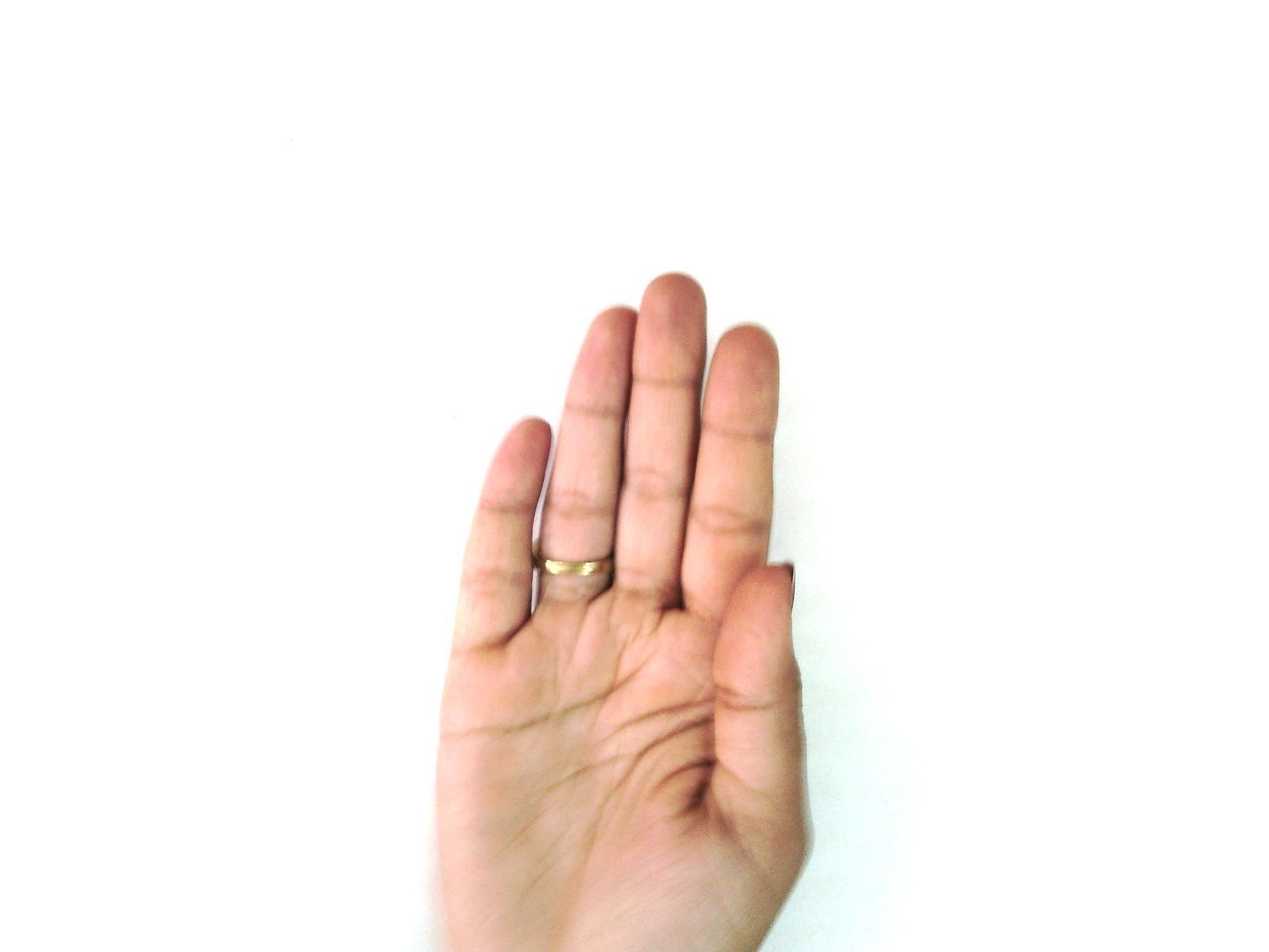open_palm: (428, 271, 818, 951)
